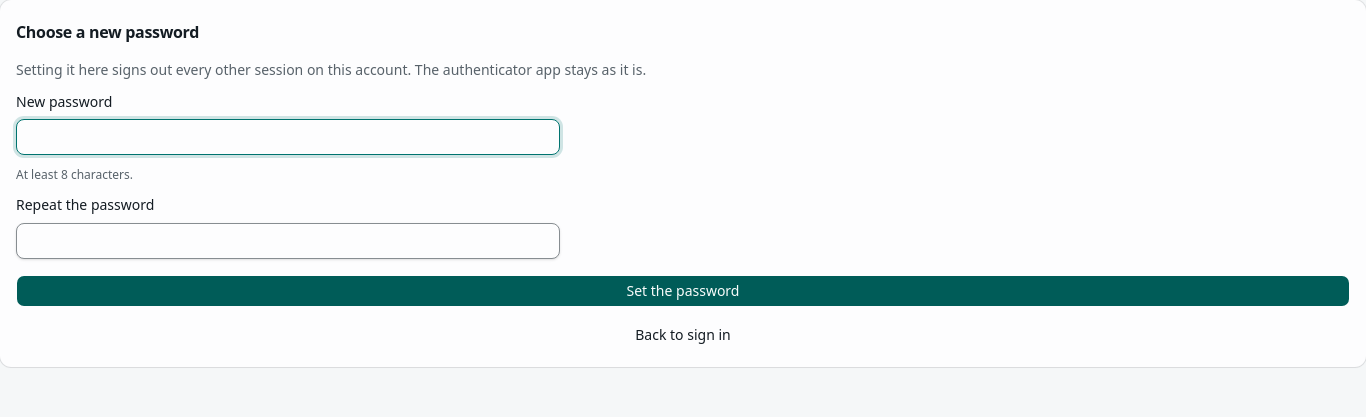
SignIn password recovery › refuses a mistyped confirmation without spending the token
Expected: the heading "Choose a new password" is shown, [16, 16, 199, 48]
In the password field labelled "New password": (288, 137) [16, 119, 560, 155], type "a-new-password"
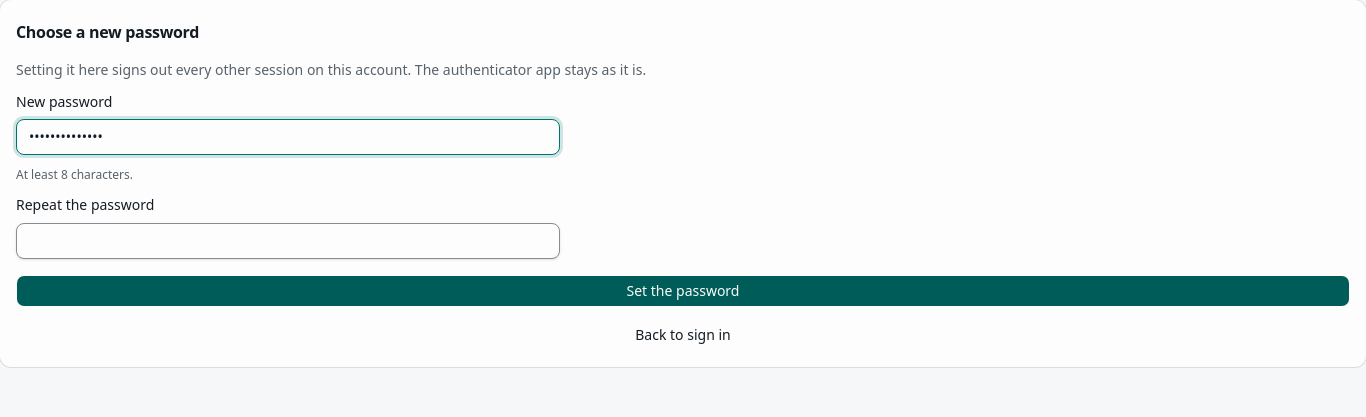
In the password field labelled "Repeat the password": (288, 240) [16, 222, 560, 258], type "a-new-passwrd"
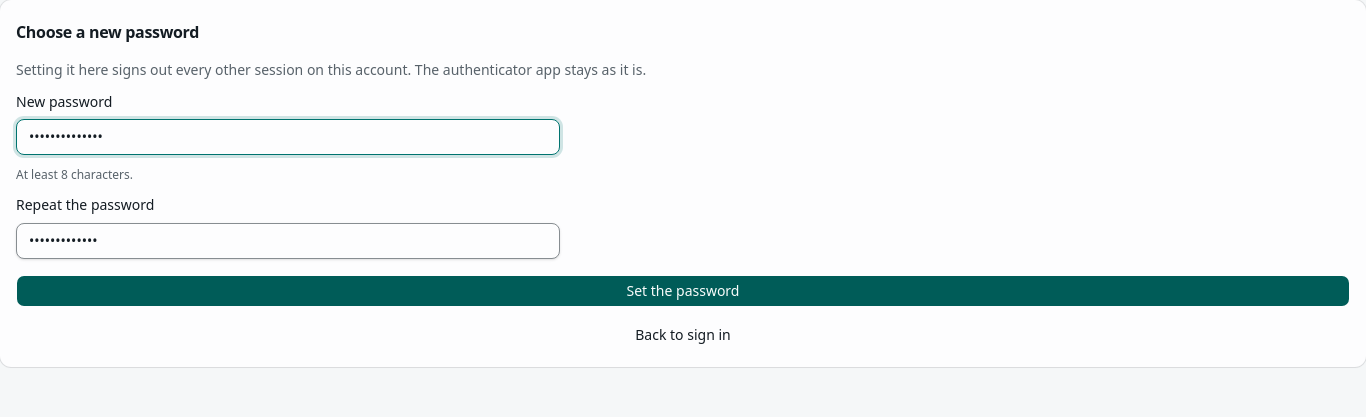
Click the button "Set the password": click(683, 290) [16, 274, 1350, 306]
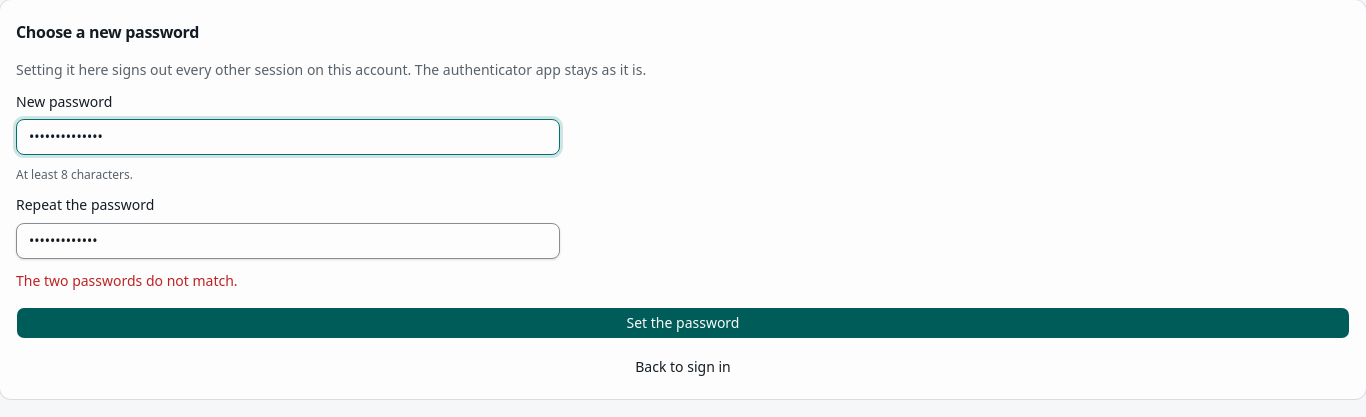
Now the message reads "The two passwords do not match.", box [16, 270, 238, 290]
